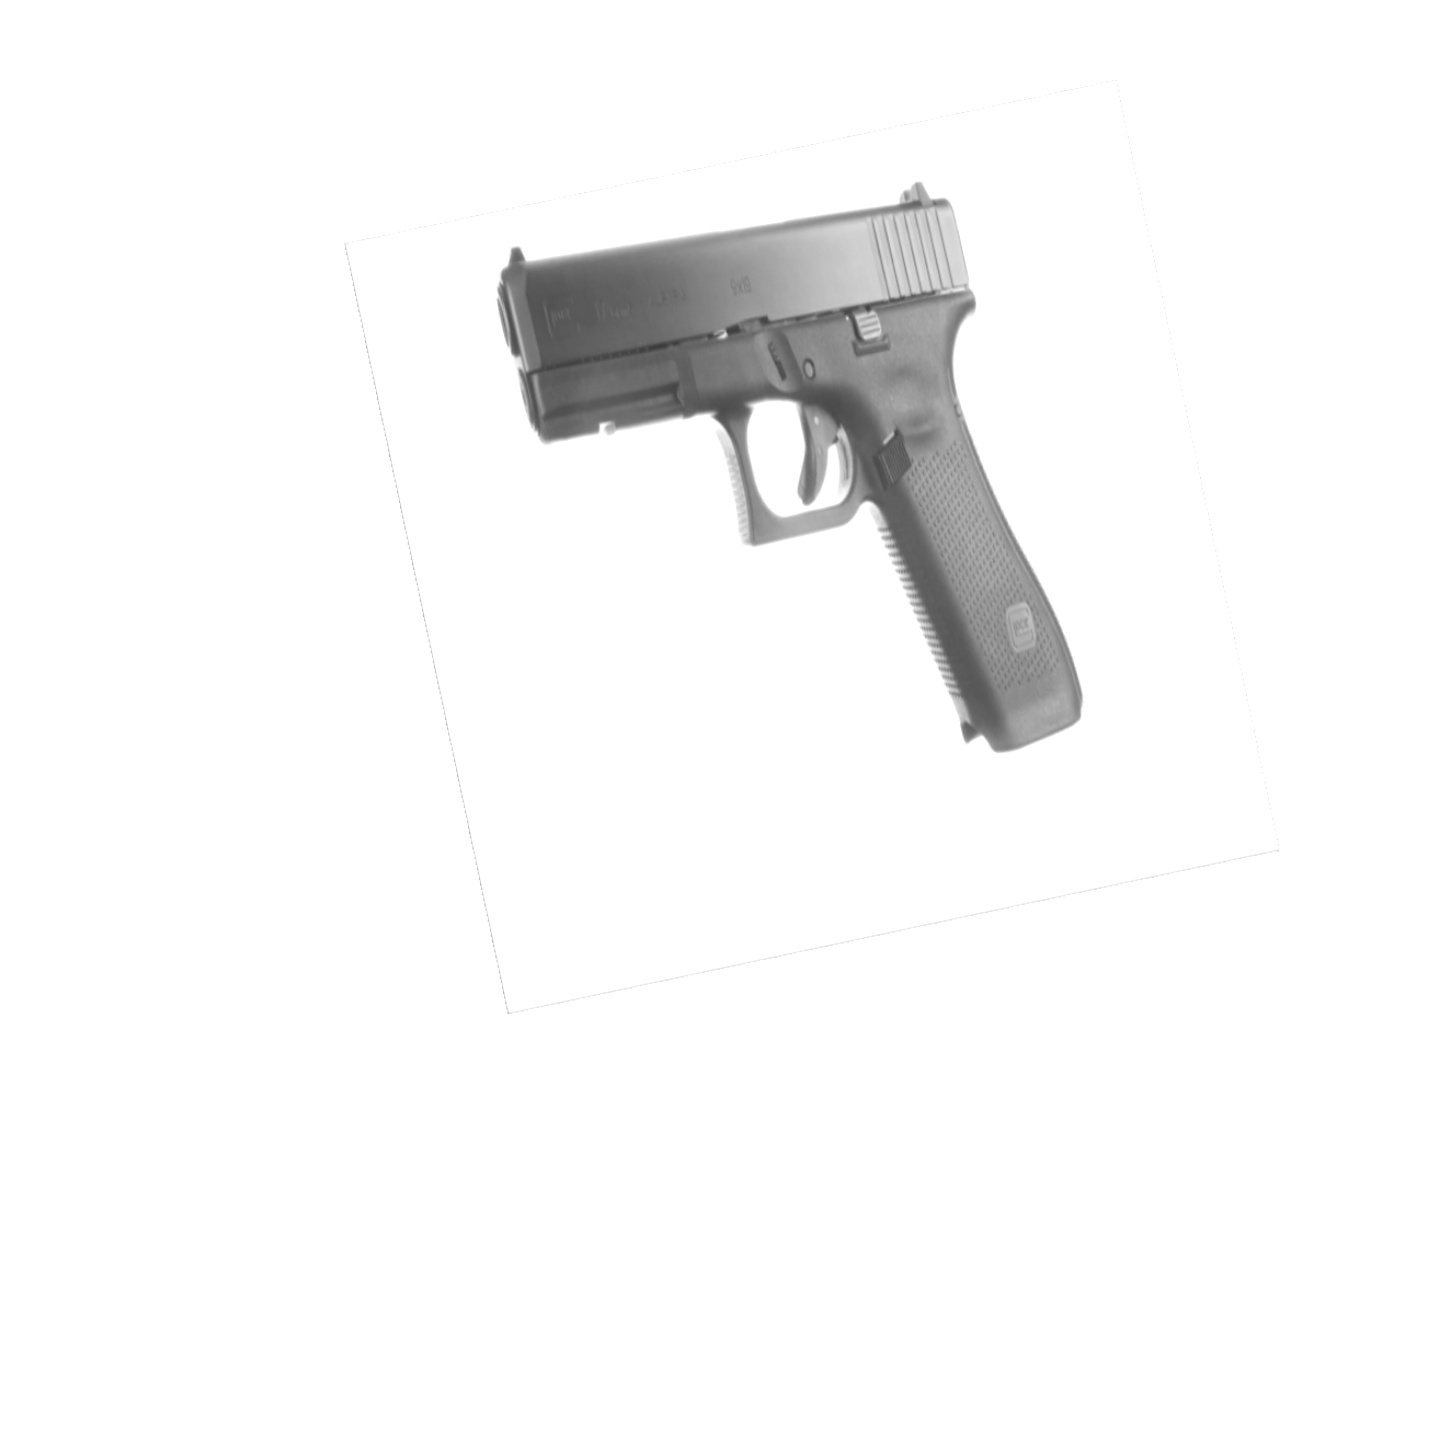gun: (498, 180, 1082, 751)
